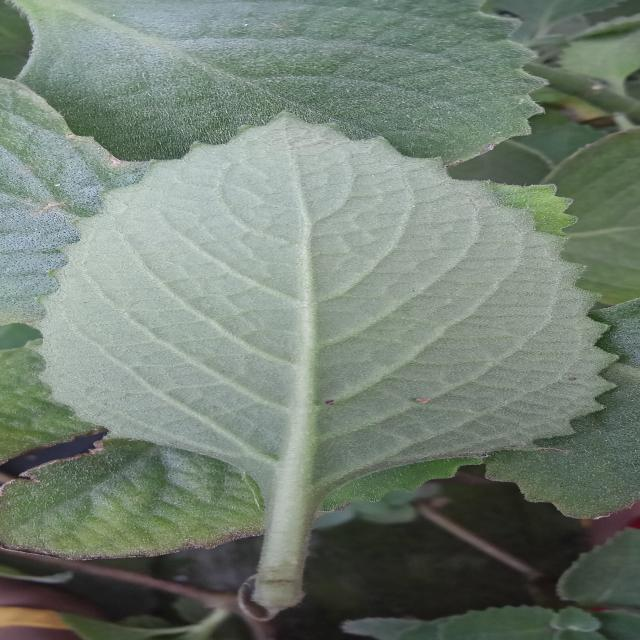Oregano: (35, 104, 633, 498)
